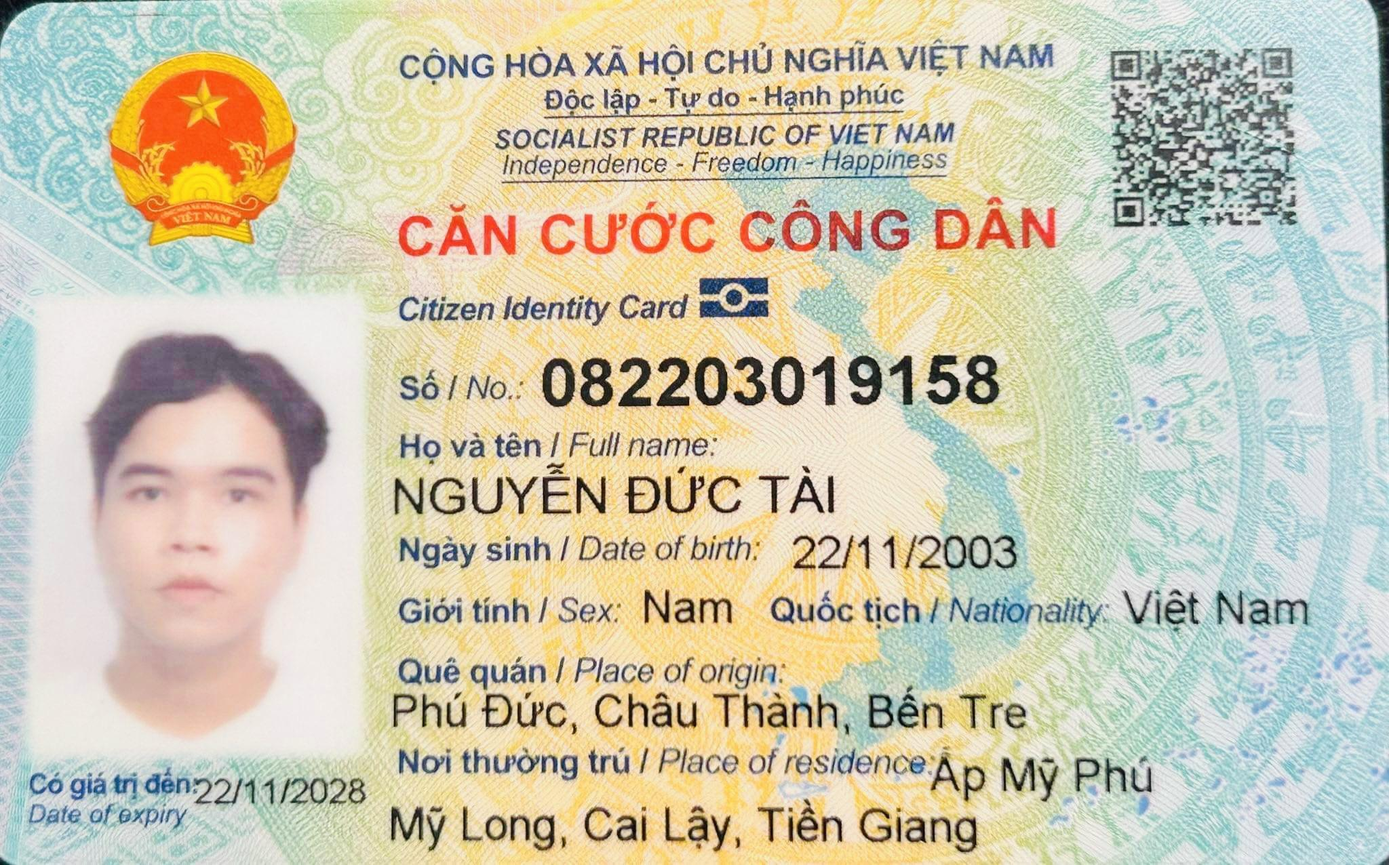ID: (526, 344, 1041, 421)
birth: (788, 522, 1025, 585)
name: (383, 460, 851, 528)
place: (370, 683, 1053, 742)
residence: (370, 787, 988, 860), (926, 743, 1178, 810)
